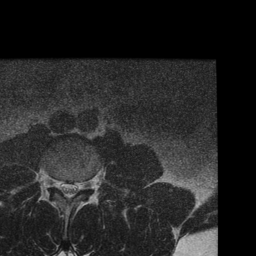CCS_normal: (65, 174, 72, 209)
LFS_normal: (80, 173, 89, 196)
LLS_normal: (72, 173, 80, 202)
RFS_normal: (51, 169, 58, 196)
RLS_normal: (58, 173, 65, 201)
